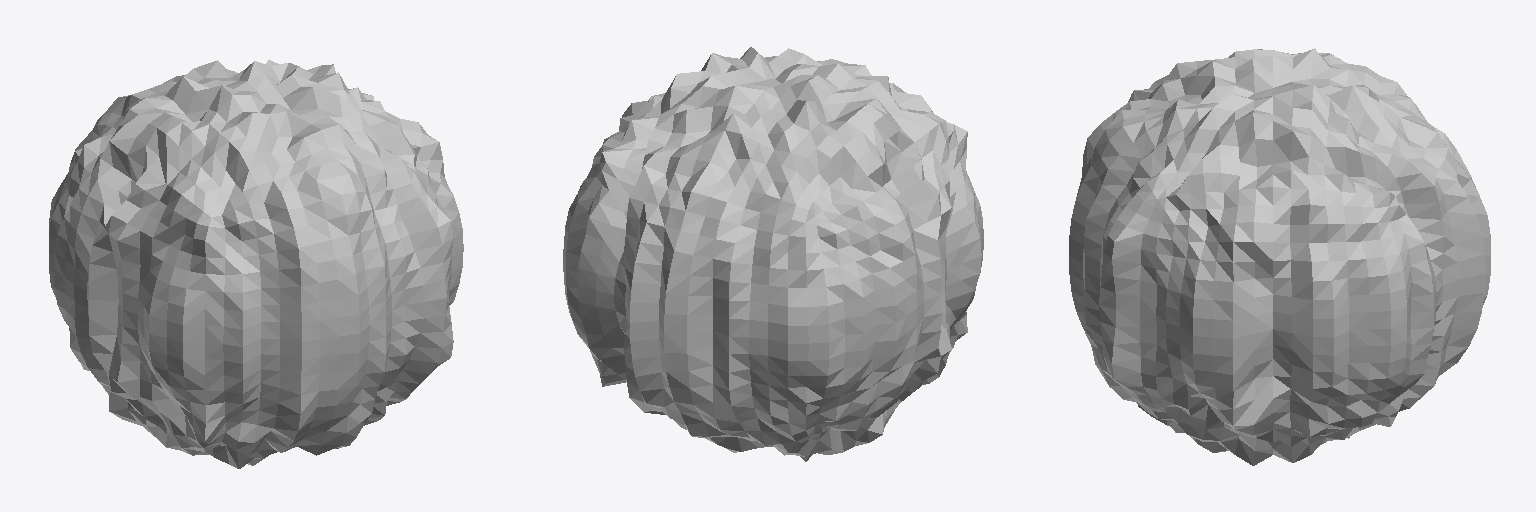
The model's file is asteroid171.obj.
The picture shows the model from 3 angles: view 1: azimuth 30°, elevation 25°; view 2: azimuth 150°, elevation 25°; view 3: azimuth 270°, elevation 25°; orthographic projection.
Visible parts, largest first — view 1: Cube_Cube.002; view 2: Cube_Cube.002; view 3: Cube_Cube.002.
Boxes of the visible parts, x1,y1,x2,y2 form: Cube_Cube.002: [49, 60, 463, 468]; Cube_Cube.002: [563, 47, 983, 461]; Cube_Cube.002: [1069, 48, 1490, 465].
Bounding box in the file's own units: 1.71 × 1.74 × 1.83.